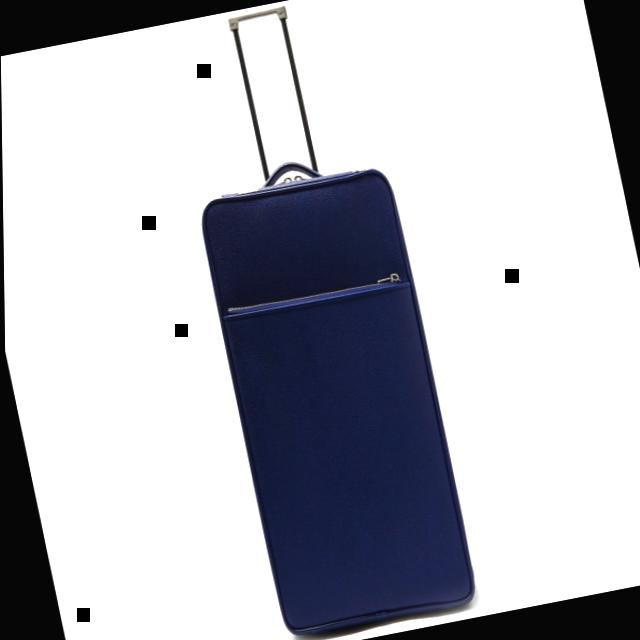luggage: (182, 139, 488, 640)
